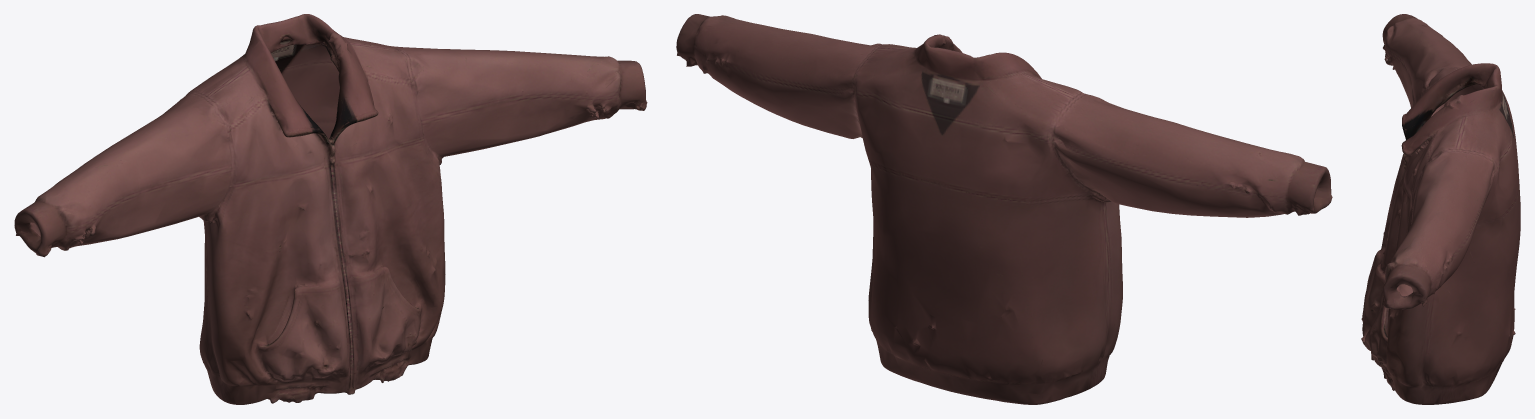
File: cloth.glb
3 renders of one model, left to right at view 1: azimuth 30°, elevation 25°; view 2: azimuth 150°, elevation 25°; view 3: azimuth 270°, elevation 25°, orthographic. The views are drawn at different scales.
Visible parts, largest first — view 1: Mesh_0; view 2: Mesh_0; view 3: Mesh_0.
Boxes of the visible parts, x1,y1,x2,y2 form: Mesh_0: (14, 14, 647, 404); Mesh_0: (676, 14, 1332, 404); Mesh_0: (1361, 14, 1520, 404).
Bounding box in the file's own units: 1.91 × 0.983 × 0.4895.
Materials: 1 (1 with a texture image).
